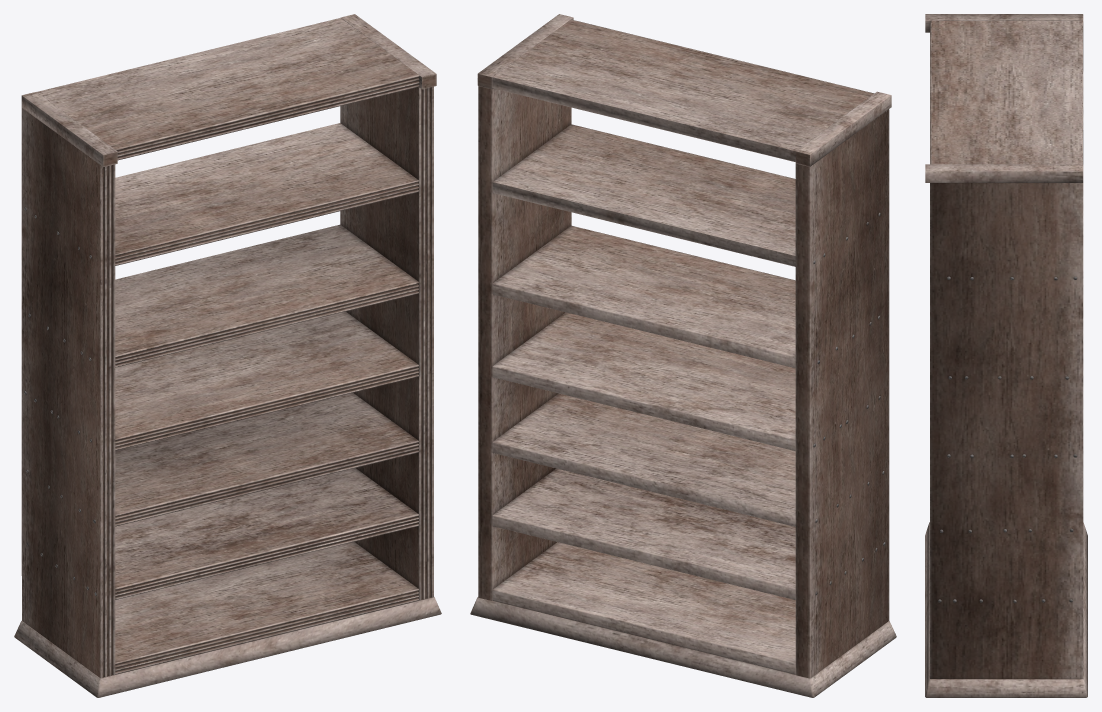
File: wooden_bookshelf_worn.fbx
3 renders of one model, left to right at view 1: azimuth 30°, elevation 25°; view 2: azimuth 150°, elevation 25°; view 3: azimuth 270°, elevation 25°, orthographic. The views are drawn at different scales.
Parts seen in each view (by area): view 1: wooden_bookshelf_worn; view 2: wooden_bookshelf_worn; view 3: wooden_bookshelf_worn.
Part boxes in pixels (<box>): wooden_bookshelf_worn: <box>14,14,441,697</box>; wooden_bookshelf_worn: <box>470,14,896,697</box>; wooden_bookshelf_worn: <box>925,14,1087,697</box>.
Bounding box in the file's own units: 137 × 206 × 58.13.
1 material, 1 textured.
